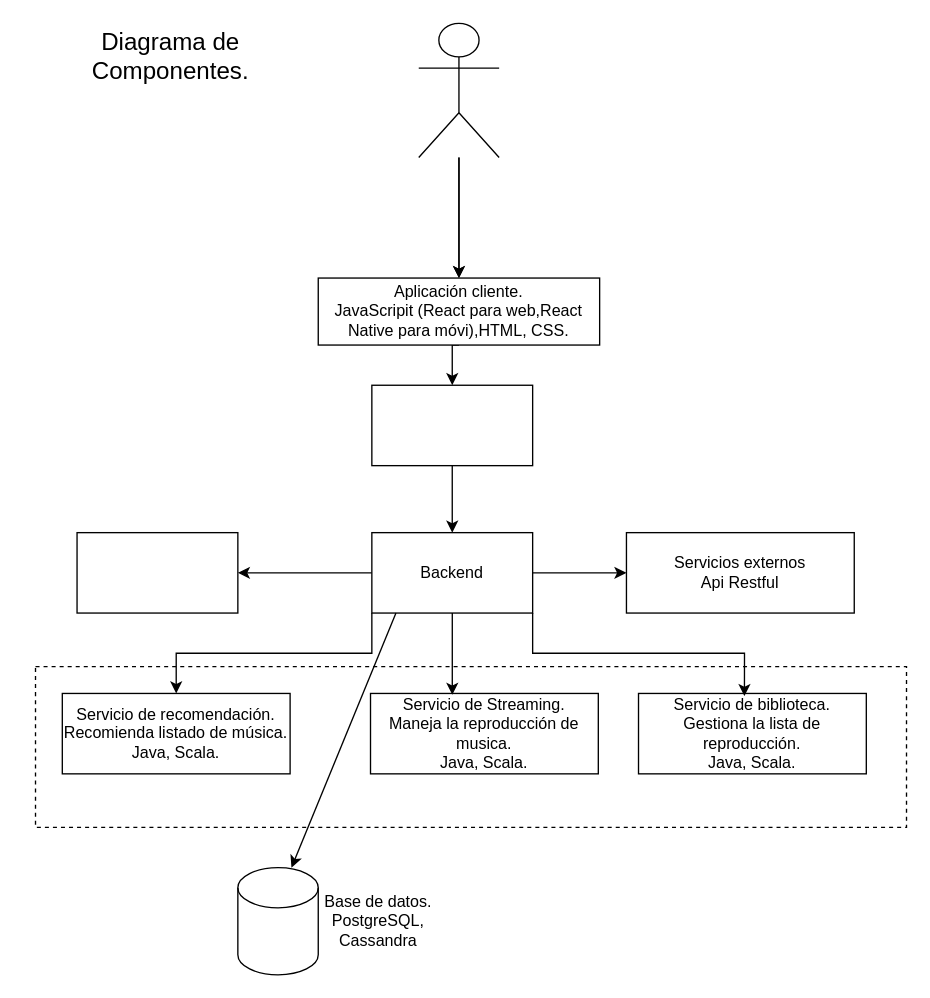
Some shapes in this 930 by 998 pixel diagram are drawn without their labels. The centre of each missing label's shape, as x and y in pixels:
"API Gateway. Maneja las solicitudes del usuario. Node.j.s." belongs at pixel 452 425.
"Servicio de autenticación. Java, Scala." belongs at pixel 157 572.
"Usuario" belongs at pixel 458 89.
